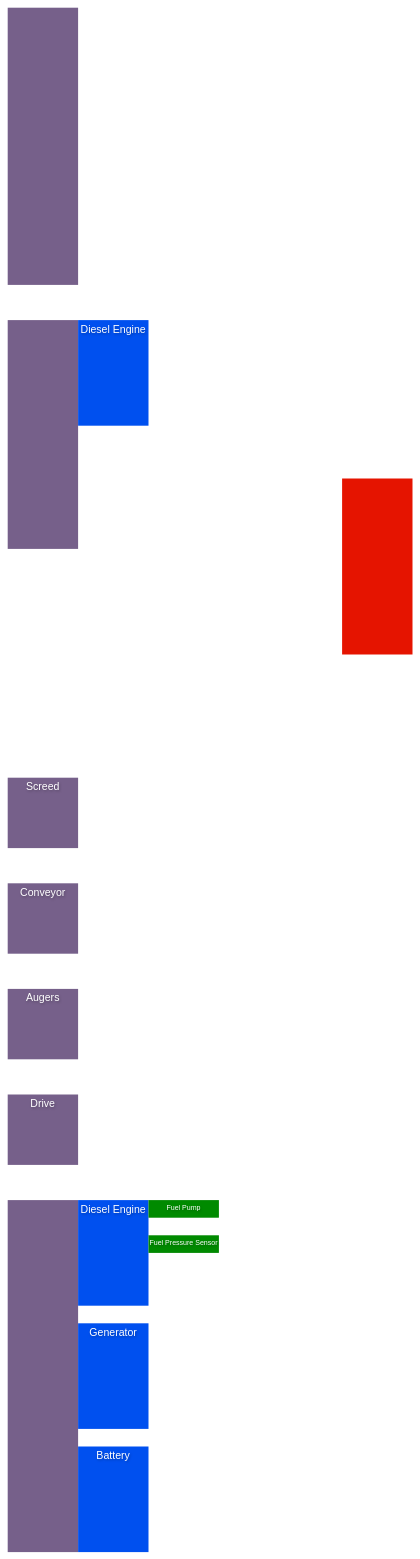
The diagram is 420 pixels wide and 1559 high, and some of its shapes have lost their labels. Here are the shapes that lost their labels. From the top down, the centre of each, then its label:
At [42,146]: "Control Panel".
At [42,434]: "Hopper".
At [377,566]: "Safety Controller".
At [42,1376]: "Power Supply".
